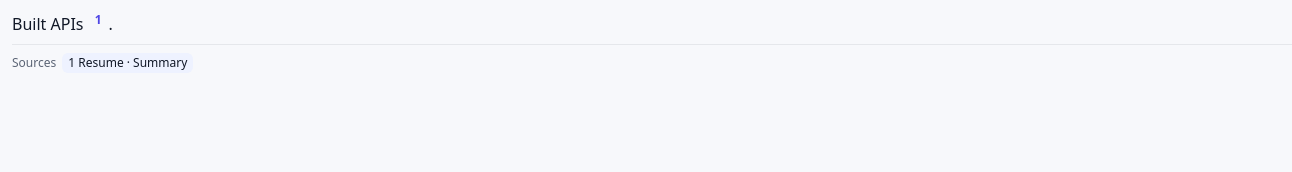
Test case: AnswerText › turns a known label into a button that reveals the chunk text
Check: the text "Built Python APIs at Acme" is not shown
Click the button named "Source 1: Resume · Summary": (98, 20) [89, 16, 108, 24]
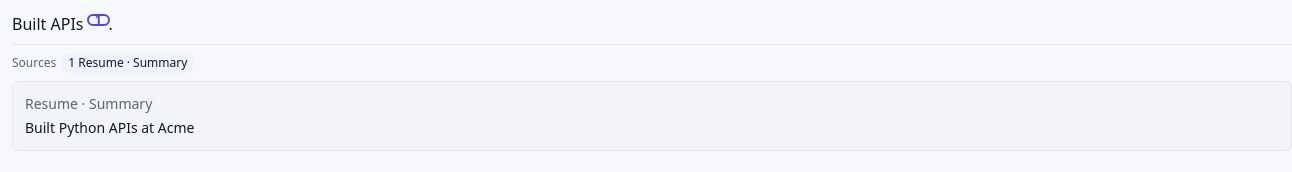
Check: the text "Built Python APIs at Acme" is shown, box [25, 118, 194, 137]
Check: the button named "Source 1: Resume · Summary" is expanded
Click the button named "Source 1: Resume · Summary": (98, 20) [89, 16, 108, 24]
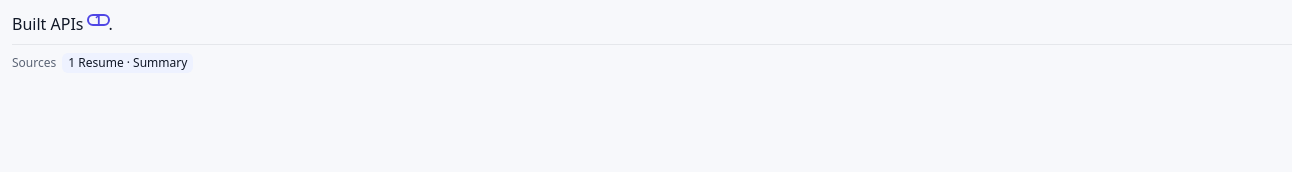
Check: the text "Built Python APIs at Acme" is gone
